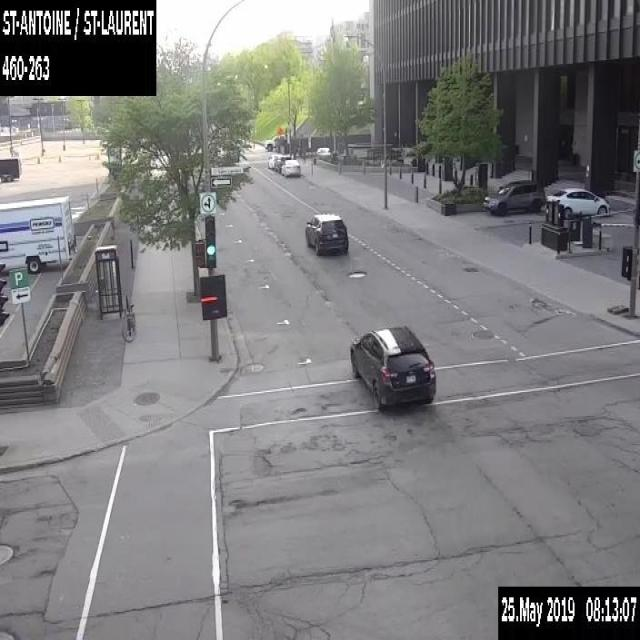construction: (276, 125, 284, 134)
vehicle: (348, 324, 437, 411), (0, 194, 76, 272), (482, 178, 545, 215), (544, 186, 610, 218), (305, 210, 348, 254), (0, 155, 22, 182), (264, 132, 290, 151), (281, 158, 300, 177), (274, 153, 290, 173), (268, 152, 282, 168), (315, 145, 330, 158)
